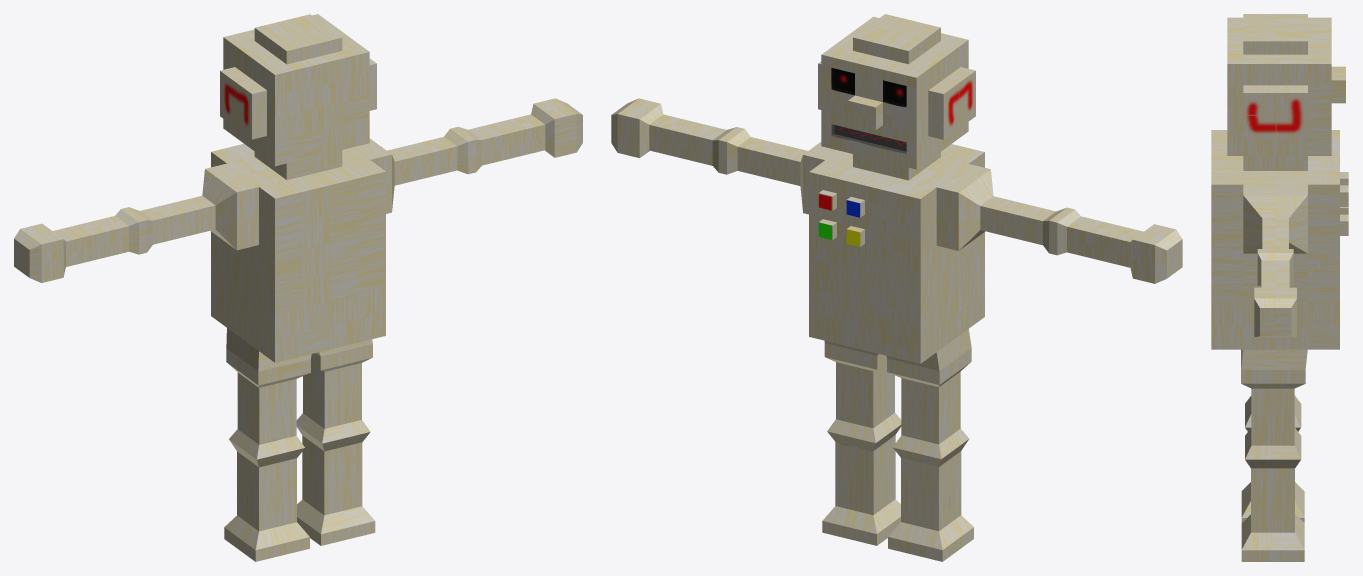
The model's file is NewRobotEnemy.fbx.
3 renders of one model, left to right at view 1: azimuth 30°, elevation 25°; view 2: azimuth 150°, elevation 25°; view 3: azimuth 270°, elevation 25°, orthographic.
Visible parts, largest first — view 1: Cube; view 2: Cube; view 3: Cube.
Part boxes in pixels (x1,y1,x2,y2): Cube: [14, 14, 582, 561]; Cube: [611, 14, 1182, 561]; Cube: [1211, 14, 1348, 561].
Size of the model in its own units: 9.98 by 8.65 by 2.14.
Materials: 1 (1 with a texture image).
